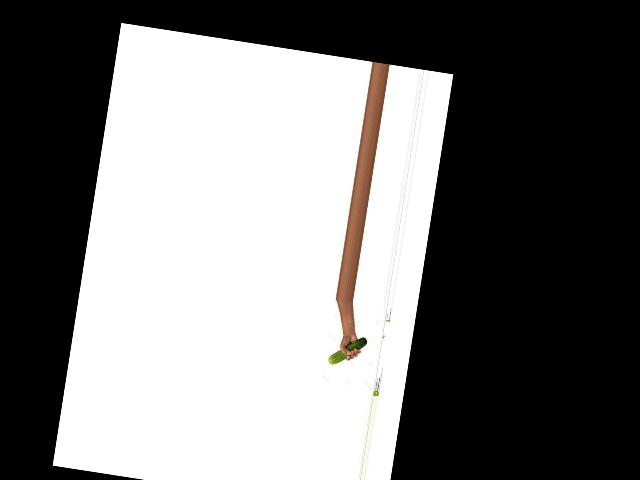cucumber: (328, 331, 368, 368)
